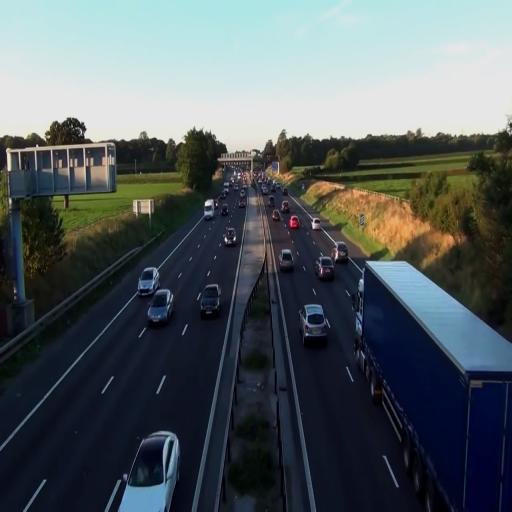vehicle: (360, 256, 512, 507), (116, 430, 180, 512), (299, 303, 330, 345), (147, 288, 175, 326), (199, 282, 221, 318), (138, 265, 160, 296), (315, 254, 335, 282), (279, 249, 295, 272), (222, 226, 238, 246), (333, 243, 349, 263), (204, 200, 214, 218), (289, 216, 300, 232)
